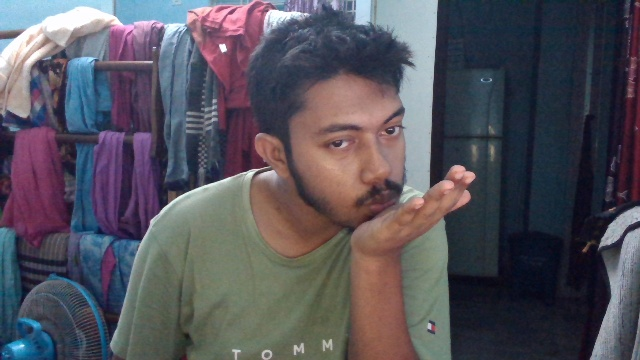iloveu: (240, 11, 481, 265)
